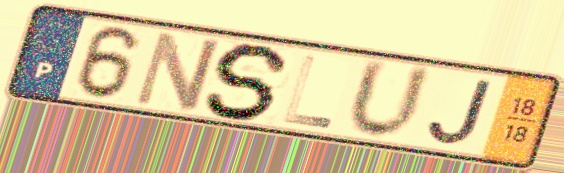6: (69, 24, 144, 102)
J: (424, 78, 497, 148)
L: (280, 52, 336, 131)
N: (129, 28, 225, 114)
S: (201, 41, 295, 123)
U: (343, 55, 436, 143)
